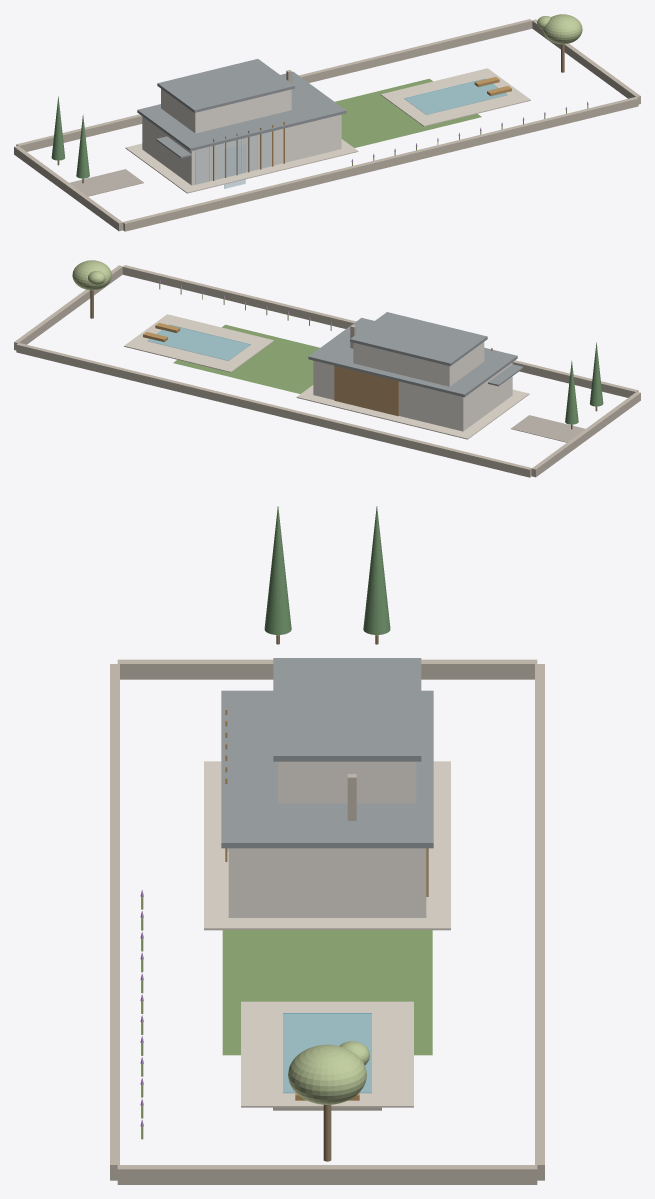
File: parcel-b-villa-moderne.glb
3 renders of one model, top to bottom at view 1: azimuth 30°, elevation 25°; view 2: azimuth 150°, elevation 25°; view 3: azimuth 270°, elevation 25°, orthographic. The views are drawn at different scales.
Parts seen in each view (by area): view 1: B_Vol_Main, Cube.023, B_Pool_Terrace, B_Roof_Main, B_Roof_Upper, Cube.022, B_Grass, B_Vol_Upper, B_Slab, B_Pool_Water, Cube.024, B_Drive (+11 smaller); view 2: Cube.022, B_Vol_Main, B_Pool_Terrace, B_Roof_Upper, B_Grass, Cube.023, B_Roof_Main, B_Vol_Upper, B_WoodPanel, B_Slab, B_Pool_Water, Cube.024 (+6 smaller); view 3: B_Roof_Main, B_Grass, B_Roof_Upper, B_Pool_Terrace, B_Vol_Main, B_Slab, Cube.025, B_Vol_Upper, Cube.024, Cube.022, Cube.023, Sphere.010 (+3 smaller).
Boxes of the visible parts, bbox=[...] form: B_Vol_Main: bbox=[142, 114, 341, 185]; Cube.023: bbox=[123, 97, 638, 231]; B_Pool_Terrace: bbox=[380, 68, 530, 126]; B_Roof_Main: bbox=[137, 71, 346, 151]; B_Roof_Upper: bbox=[157, 59, 294, 112]; Cube.022: bbox=[16, 19, 532, 151]; B_Grass: bbox=[335, 78, 481, 147]; B_Vol_Upper: bbox=[161, 89, 291, 133]; B_Slab: bbox=[125, 139, 358, 193]; B_Pool_Water: bbox=[404, 78, 507, 114]; Cube.024: bbox=[14, 146, 123, 231]; B_Drive: bbox=[69, 169, 143, 196]; Cube.022: bbox=[16, 343, 531, 477]; B_Vol_Main: bbox=[313, 360, 512, 431]; B_Pool_Terrace: bbox=[124, 314, 274, 372]; B_Roof_Upper: bbox=[350, 312, 487, 366]; B_Grass: bbox=[173, 324, 319, 393]; Cube.023: bbox=[122, 265, 638, 397]; B_Roof_Main: bbox=[308, 317, 517, 397]; B_Vol_Upper: bbox=[353, 342, 484, 386]; B_WoodPanel: bbox=[334, 365, 398, 416]; B_Slab: bbox=[296, 385, 529, 439]; B_Pool_Water: bbox=[147, 324, 250, 360]; Cube.024: bbox=[531, 392, 640, 477]; B_Roof_Main: bbox=[221, 690, 433, 848]; B_Grass: bbox=[222, 930, 432, 1055]; B_Roof_Upper: bbox=[273, 658, 421, 761]; B_Pool_Terrace: bbox=[241, 1001, 413, 1107]; B_Vol_Main: bbox=[228, 848, 426, 917]; B_Slab: bbox=[204, 761, 450, 930]; Cube.025: bbox=[117, 1165, 537, 1184]; B_Vol_Upper: bbox=[278, 761, 416, 803]; Cube.024: bbox=[117, 659, 537, 679]; Cube.022: bbox=[535, 664, 544, 1180]; Cube.023: bbox=[110, 664, 119, 1180]; Sphere.010: bbox=[288, 1044, 366, 1104].
Bounding box in the file's own units: 48.95 × 8.65 × 17.6.
